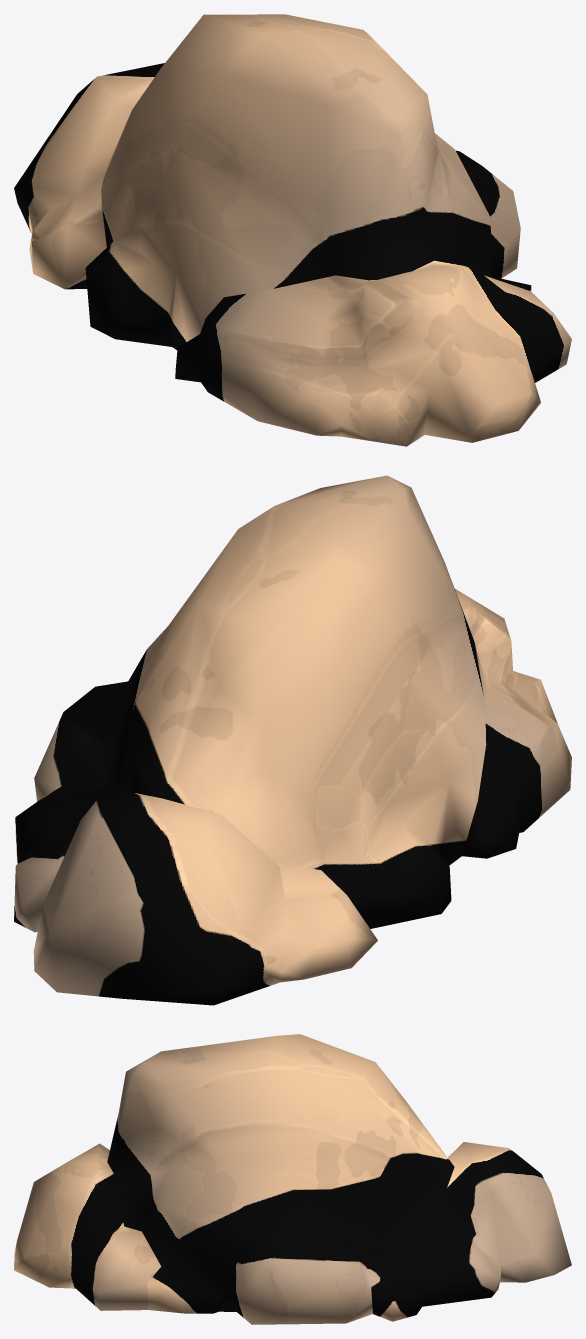
The model's file is Rock_2.fbx.
3 renders of one model, top to bottom at view 1: azimuth 30°, elevation 25°; view 2: azimuth 150°, elevation 25°; view 3: azimuth 270°, elevation 25°, orthographic. The views are drawn at different scales.
Visible parts, largest first — view 1: Low; view 2: Low; view 3: Low.
Boxes of the visible parts, left/top/right/bottom form: Low: left=14, top=14, right=571, bottom=446; Low: left=14, top=475, right=571, bottom=1005; Low: left=14, top=1034, right=571, bottom=1324.
Size of the model in its own units: 196 by 144 by 345.
